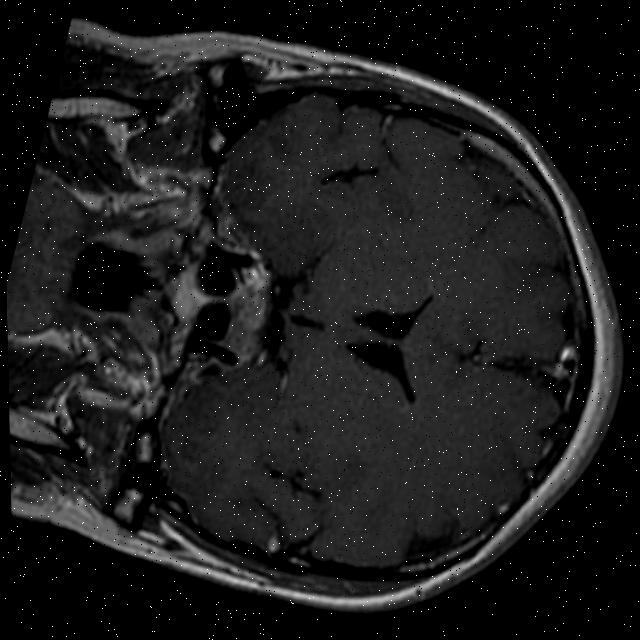Pituitary: (212, 266, 279, 363)
